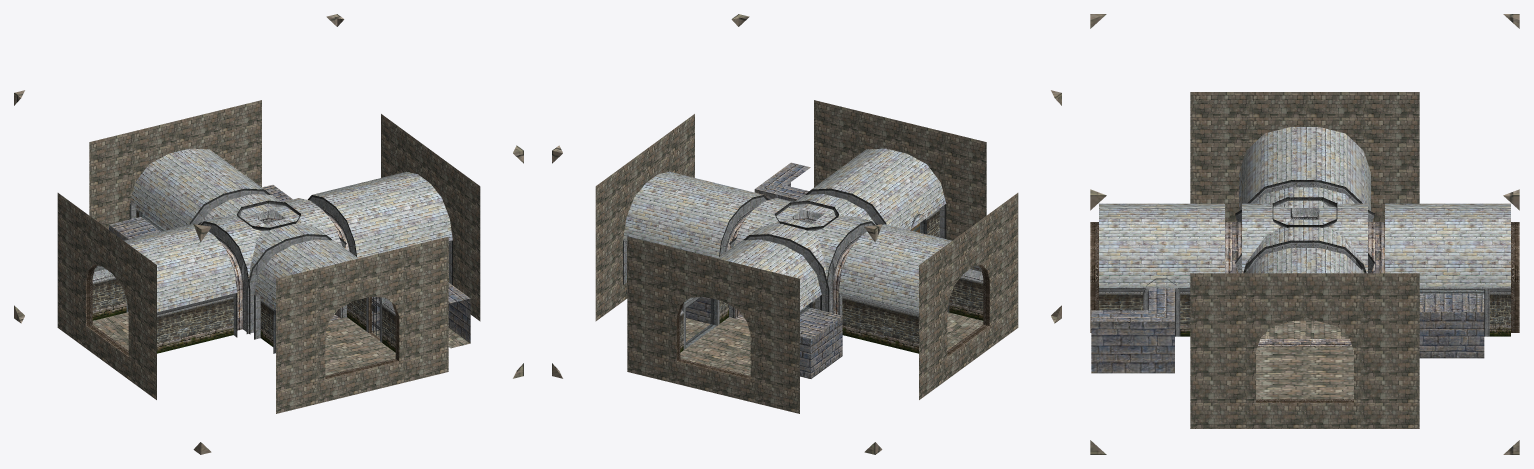
File: lbg_4a.glb
3 renders of one model, left to right at view 1: azimuth 30°, elevation 25°; view 2: azimuth 150°, elevation 25°; view 3: azimuth 270°, elevation 25°, orthographic. The views are drawn at different scales.
Visible parts, largest first — view 1: lbg_4a; view 2: lbg_4a; view 3: lbg_4a.
Boxes of the visible parts, x1=… form: lbg_4a: x1=14, y1=14, x2=523, y2=454; lbg_4a: x1=552, y1=14, x2=1061, y2=454; lbg_4a: x1=1090, y1=14, x2=1519, y2=454.
Size of the model in its own units: 15 by 10 by 15.
Materials: 12 (12 with a texture image).
